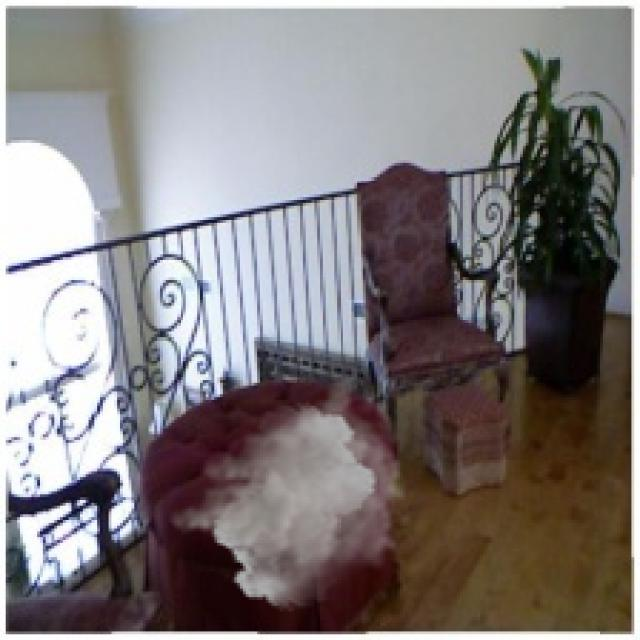smoke: (165, 372, 408, 612)
